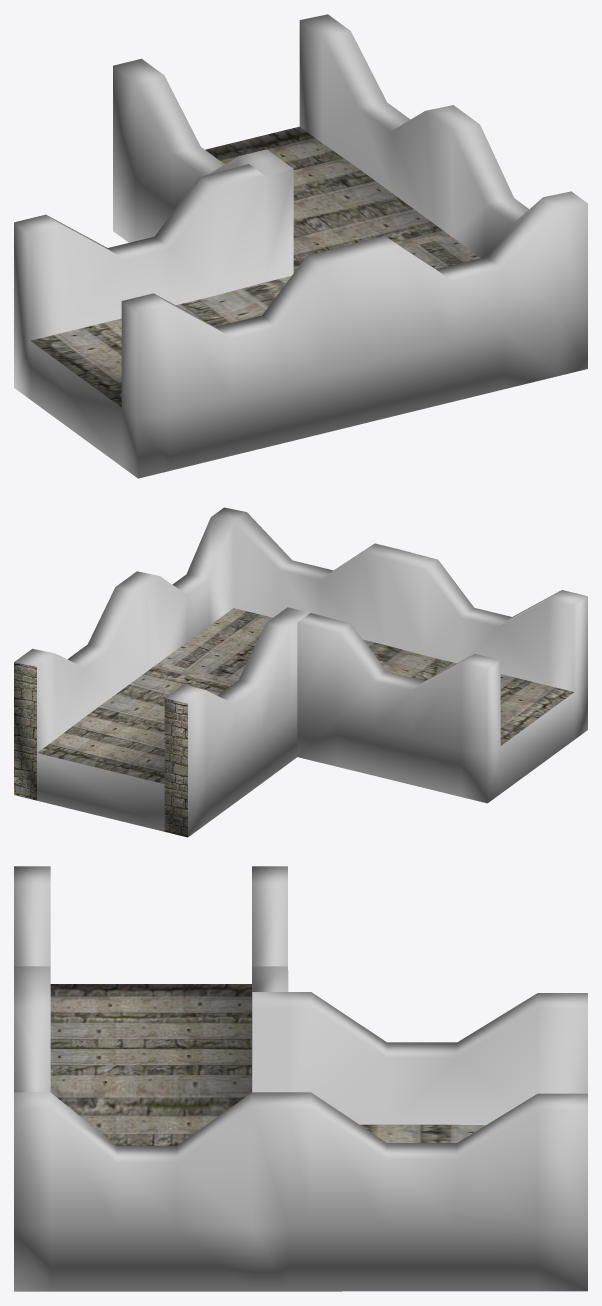
Rendered from Battlement_Corner 1.fbx.
3 views of the same model, one above another, from view 1: azimuth 30°, elevation 25°; view 2: azimuth 150°, elevation 25°; view 3: azimuth 270°, elevation 25° (orthographic). The views are drawn at different scales.
Visible parts, largest first — view 1: Battlement_Croner; view 2: Battlement_Croner; view 3: Battlement_Croner.
Part boxes in pixels (<box>): Battlement_Croner: <box>14,14,587,478</box>; Battlement_Croner: <box>14,507,587,837</box>; Battlement_Croner: <box>14,866,587,1291</box>.
Size of the model in its own units: 546 by 193 by 547.
